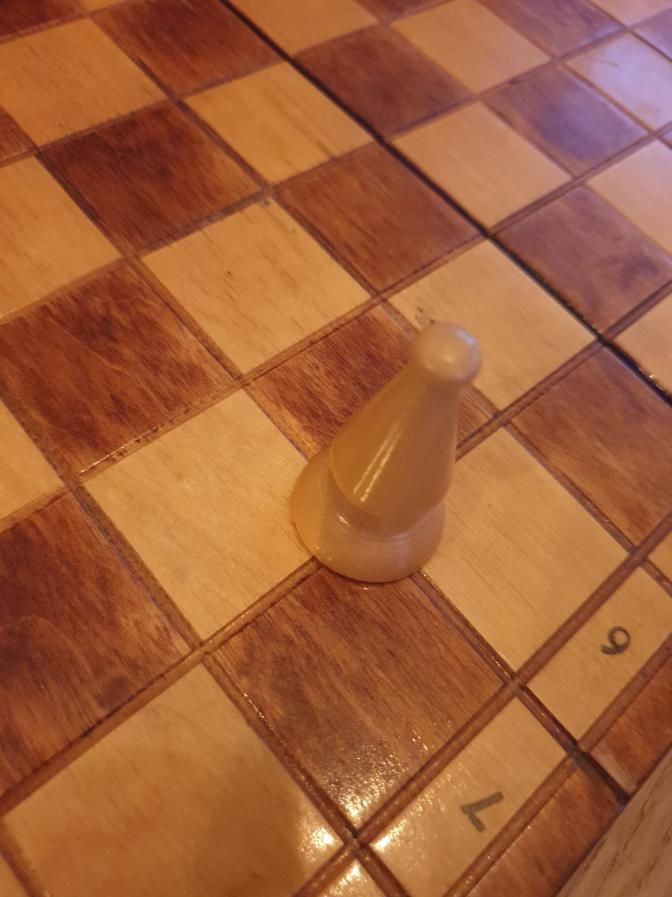wbishop: (288, 320, 488, 587)
